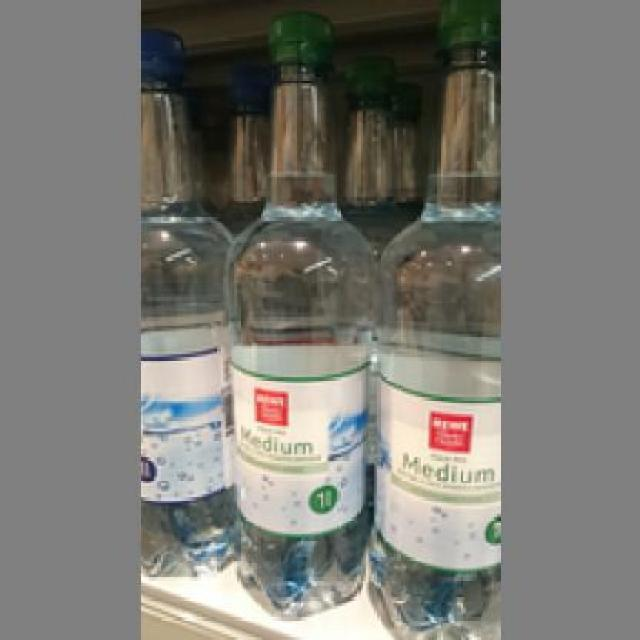Water: (226, 14, 372, 617), (360, 0, 497, 637), (136, 20, 230, 583)
